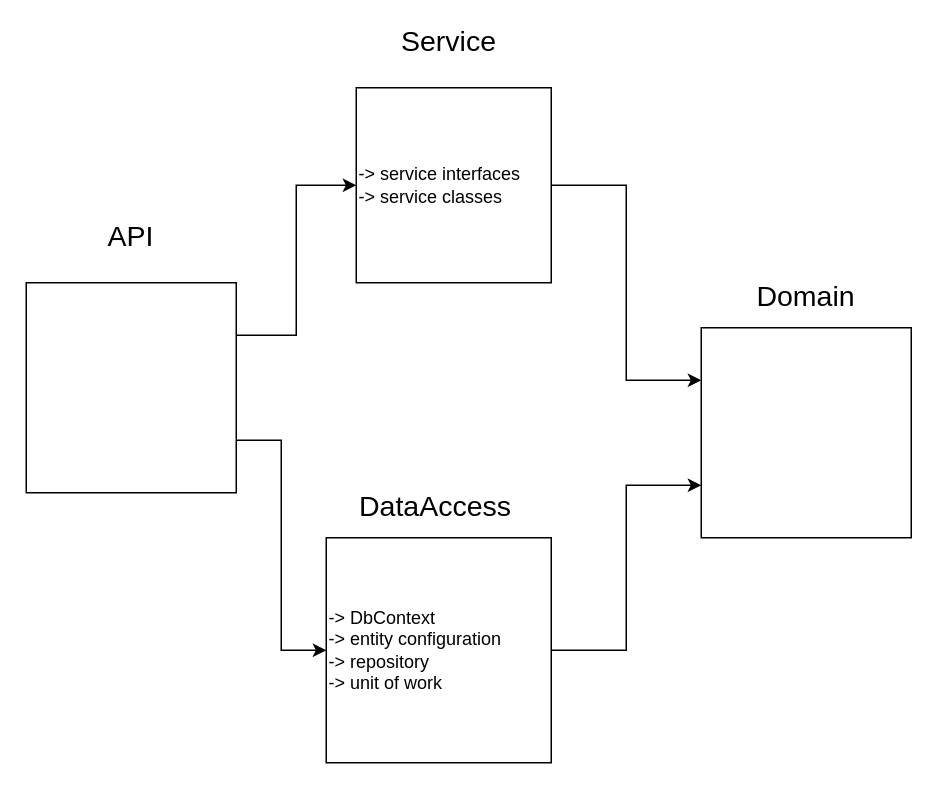
Some shapes in this 938 by 789 pixel diagram are drawn without their labels. Here are the shapes that lost their labels. From the top down, the centre of each, then its label:
At (x=130, y=387): "-> Controllers -> DTOs (models) -> middleware exceptions".
At (x=805, y=432): "-> database objects -> interface repository -> interface unit of work".
